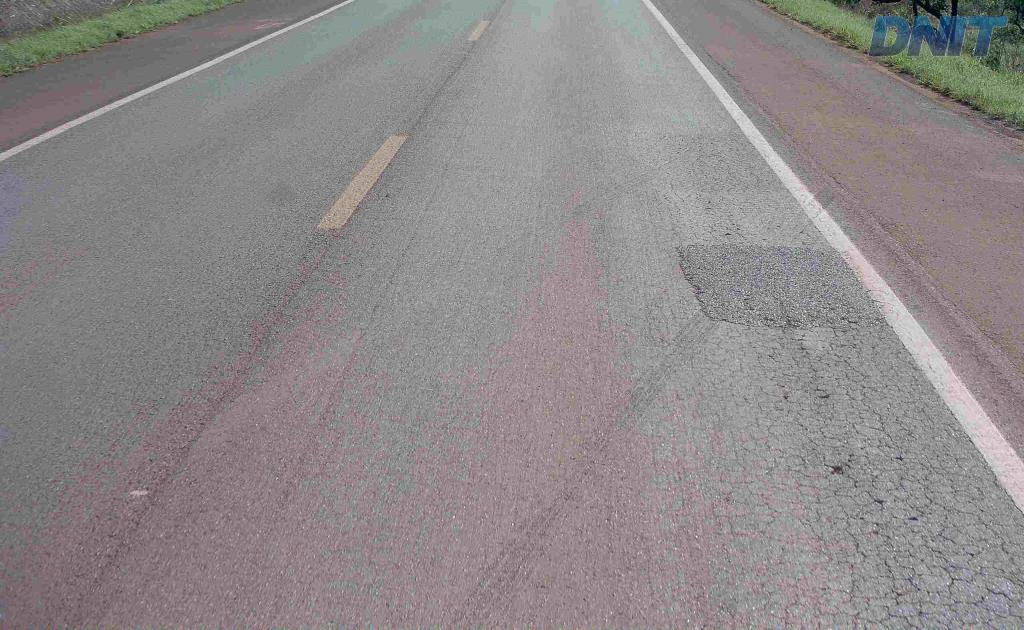crack: (806, 309, 864, 336), (750, 309, 807, 333)
